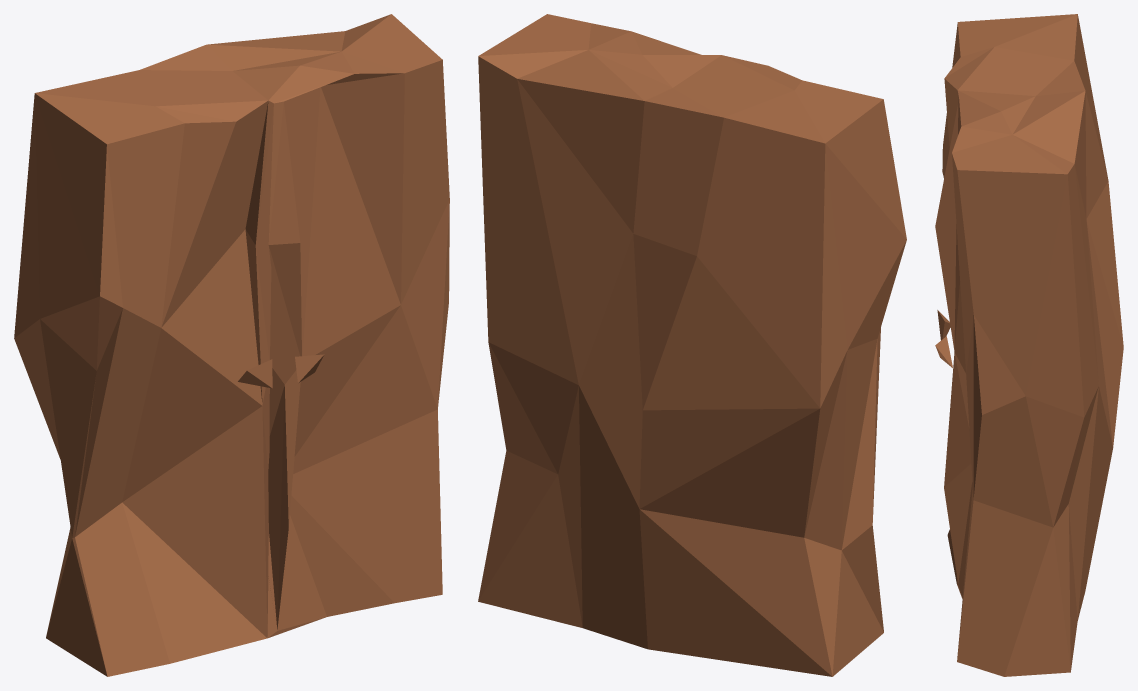
Rendered from Wardrobe.fbx.
The picture shows the model from 3 angles, left to right: view 1: azimuth 30°, elevation 25°; view 2: azimuth 150°, elevation 25°; view 3: azimuth 270°, elevation 25°; orthographic projection. The views are drawn at different scales.
Visible parts, largest first — view 1: Wardrobe; view 2: Wardrobe; view 3: Wardrobe.
Boxes of the visible parts, x1=… form: Wardrobe: x1=14, y1=14, x2=449, y2=676; Wardrobe: x1=478, y1=14, x2=906, y2=676; Wardrobe: x1=935, y1=14, x2=1123, y2=676.
Size of the model in its own units: 143 by 203 by 68.4.
